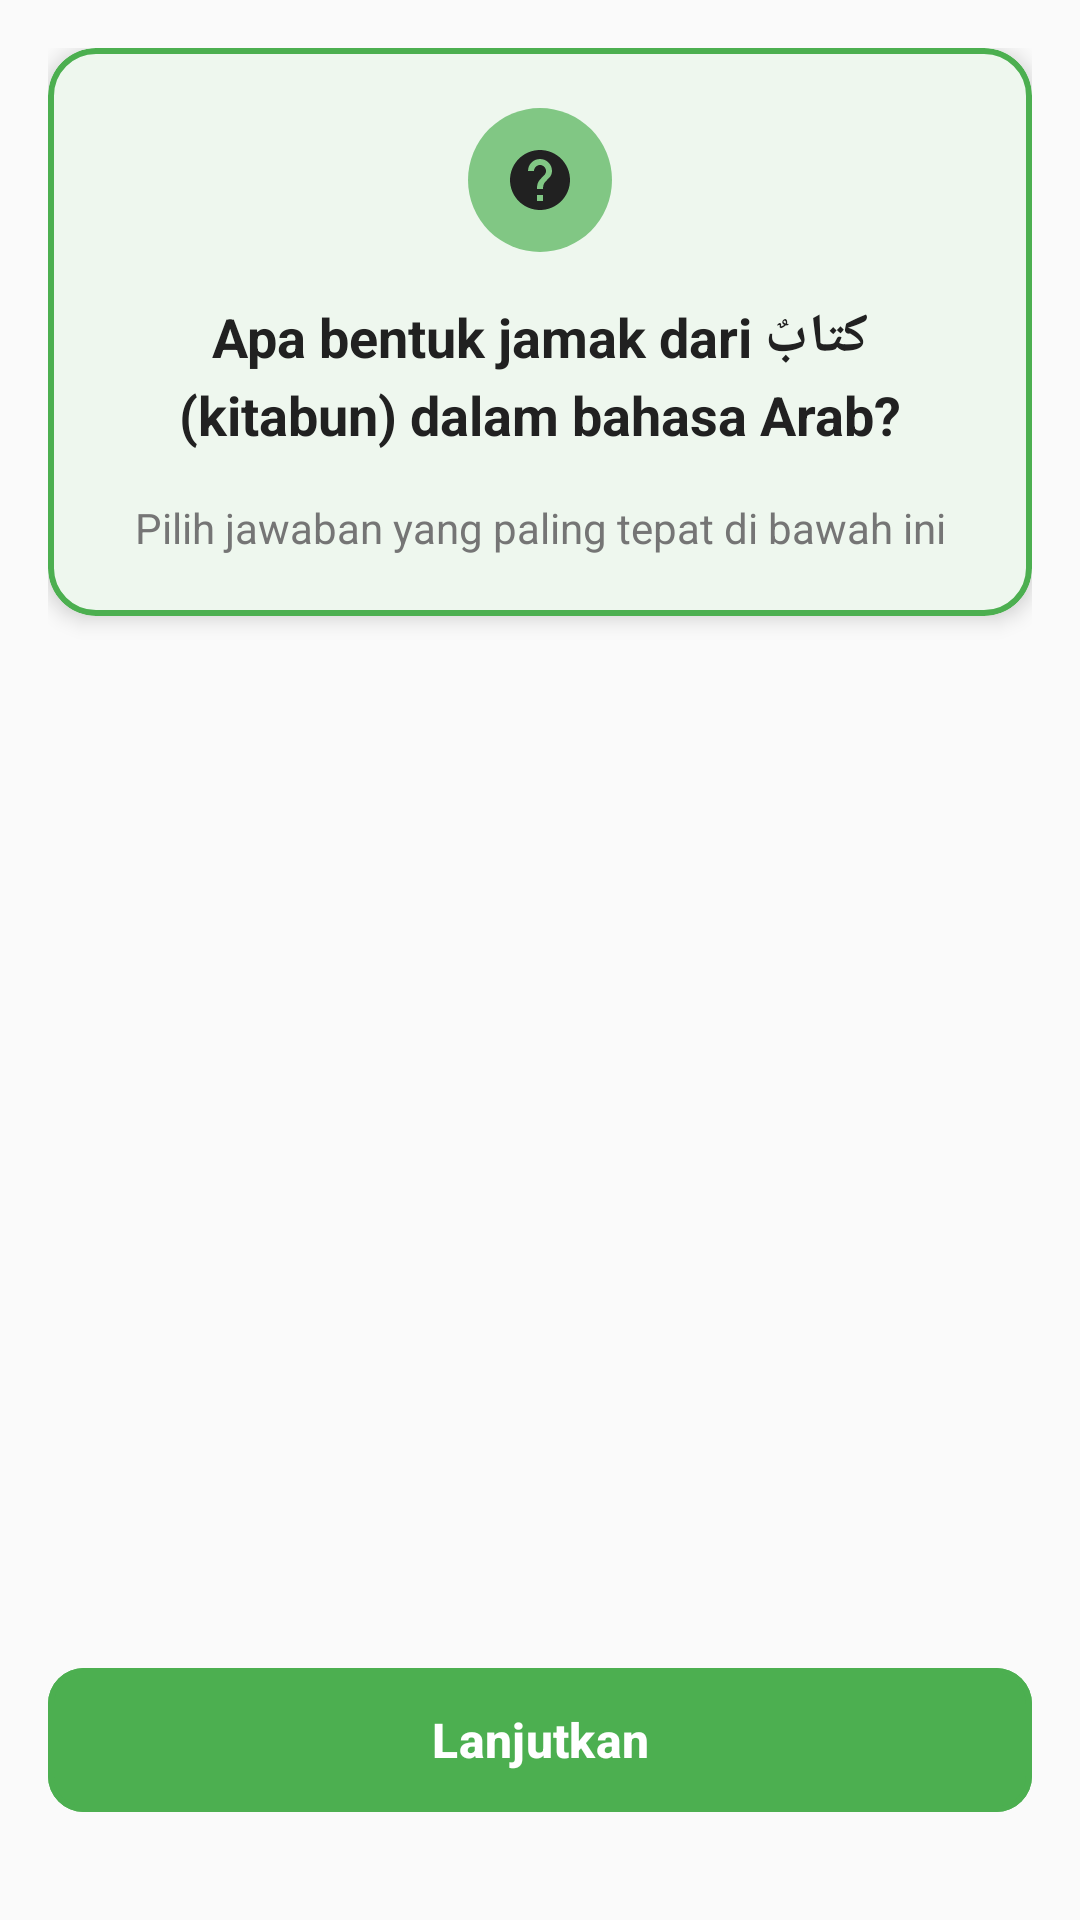

Locate icon controls on the screen. Image size 1080px x 1920px, boxes as (x1, y1, x2, y2).
Question: (468, 108, 612, 252)
